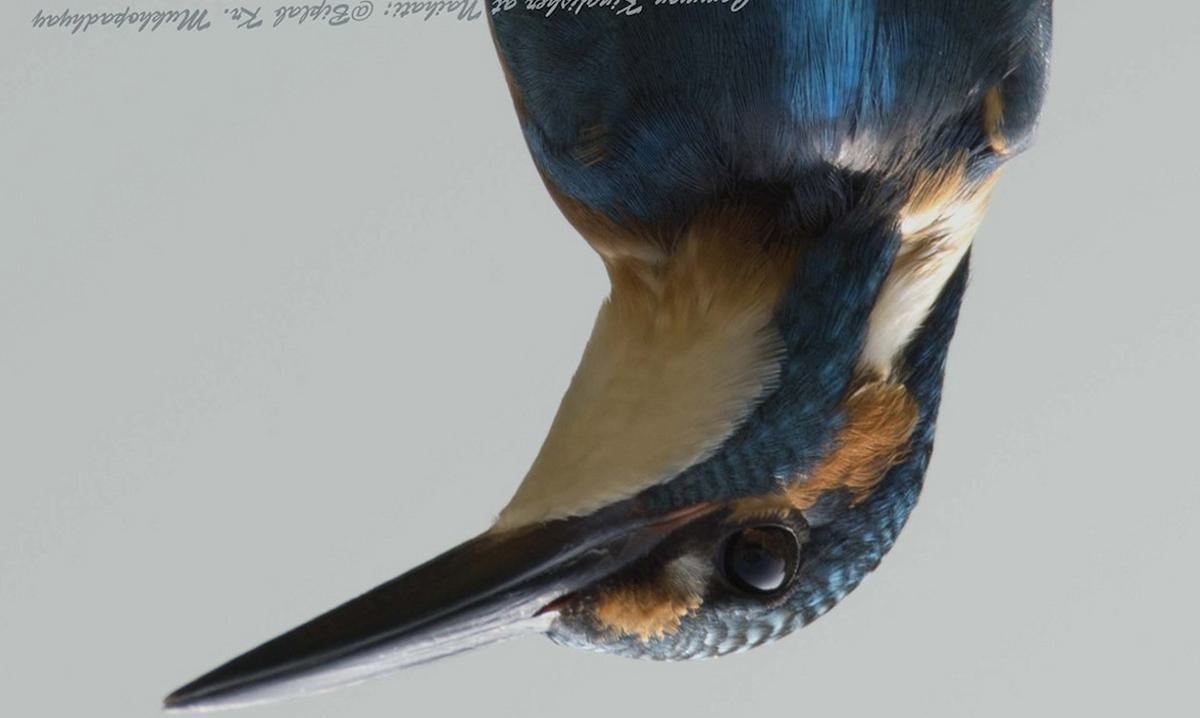kingfisher: (156, 3, 1074, 718)
